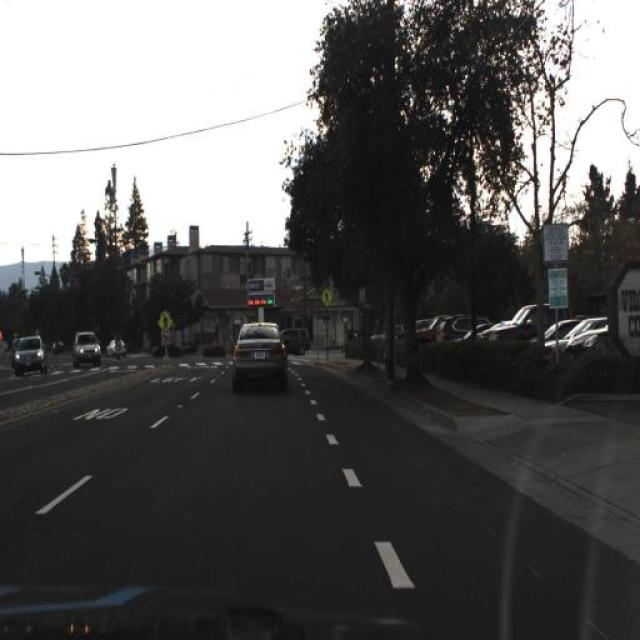car: (222, 314, 282, 396), (484, 296, 561, 353), (435, 305, 479, 345), (12, 336, 49, 376), (282, 322, 316, 362), (72, 331, 103, 368), (101, 334, 128, 364), (15, 332, 36, 370), (107, 328, 131, 360), (48, 335, 64, 359)
